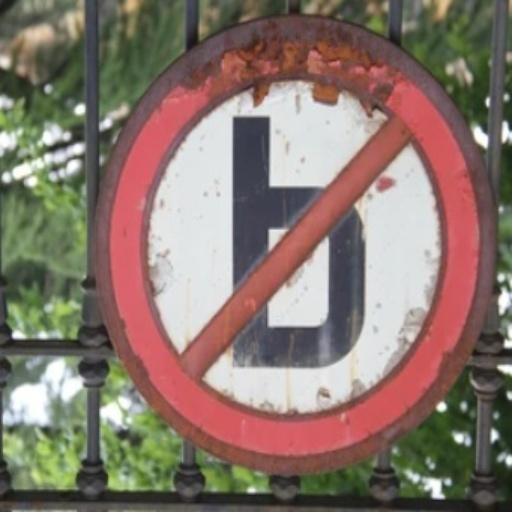No parking: (96, 20, 499, 465)
